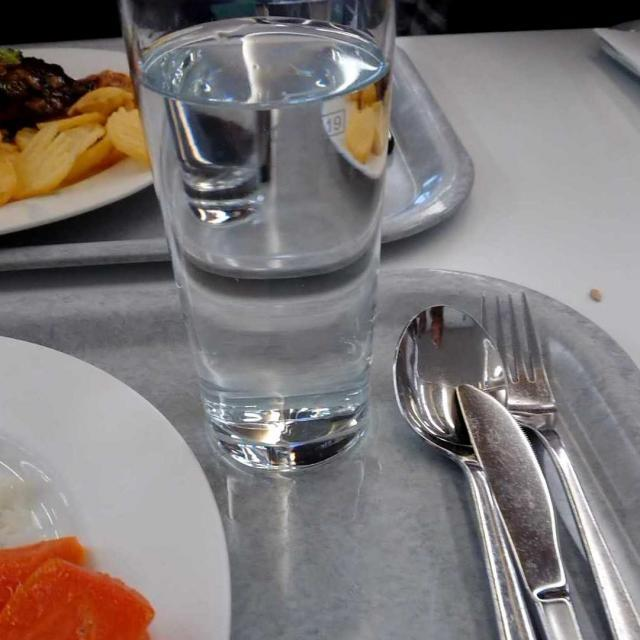water: (148, 37, 398, 443)
